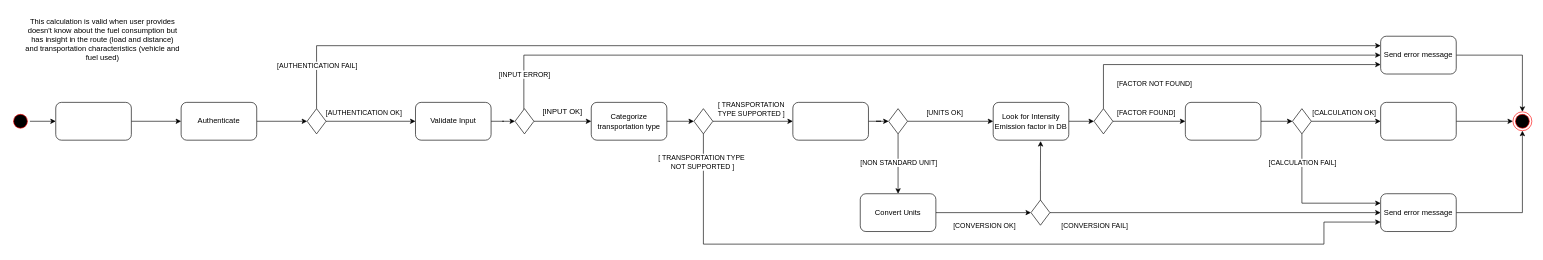
Image size: 1543x260. Some labels were removed from this diagram. Here are the shapes that lost their labels. From the top down, the centre of each, then its label:
[93,121]: Receive request input
[830,121]: Check Units
[1223,121]: Calculate Emissions
[1418,121]: Send Calculation Report
